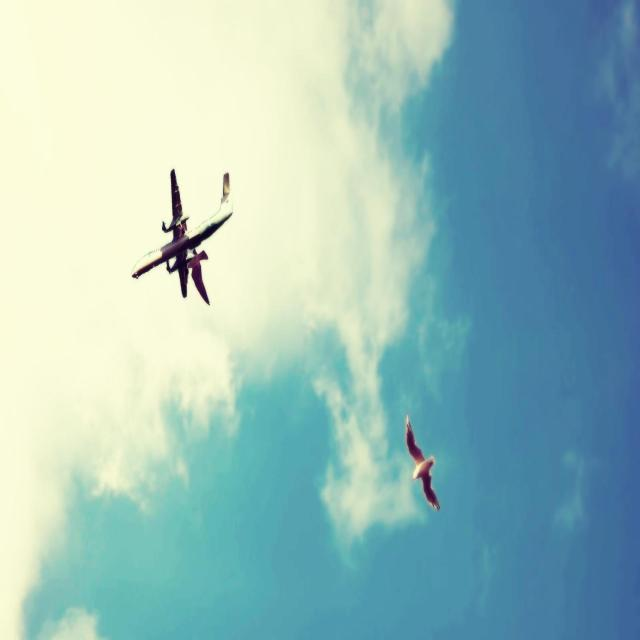airplane: (131, 166, 233, 306)
